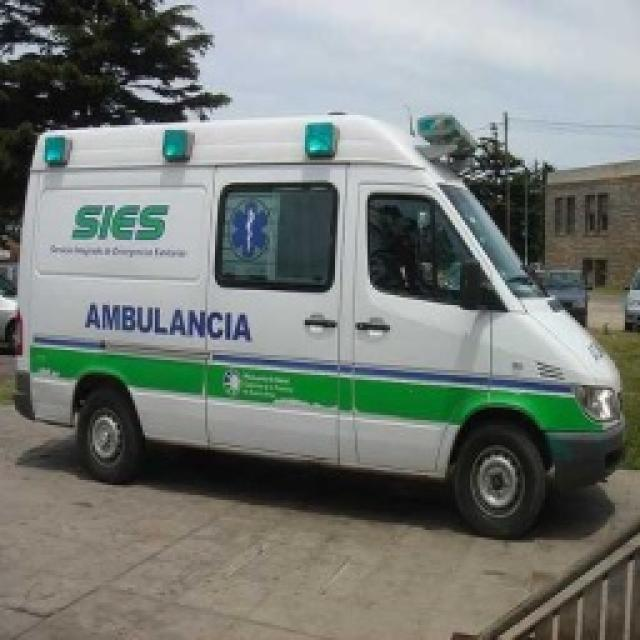emergency-vehicle: (17, 113, 627, 533)
